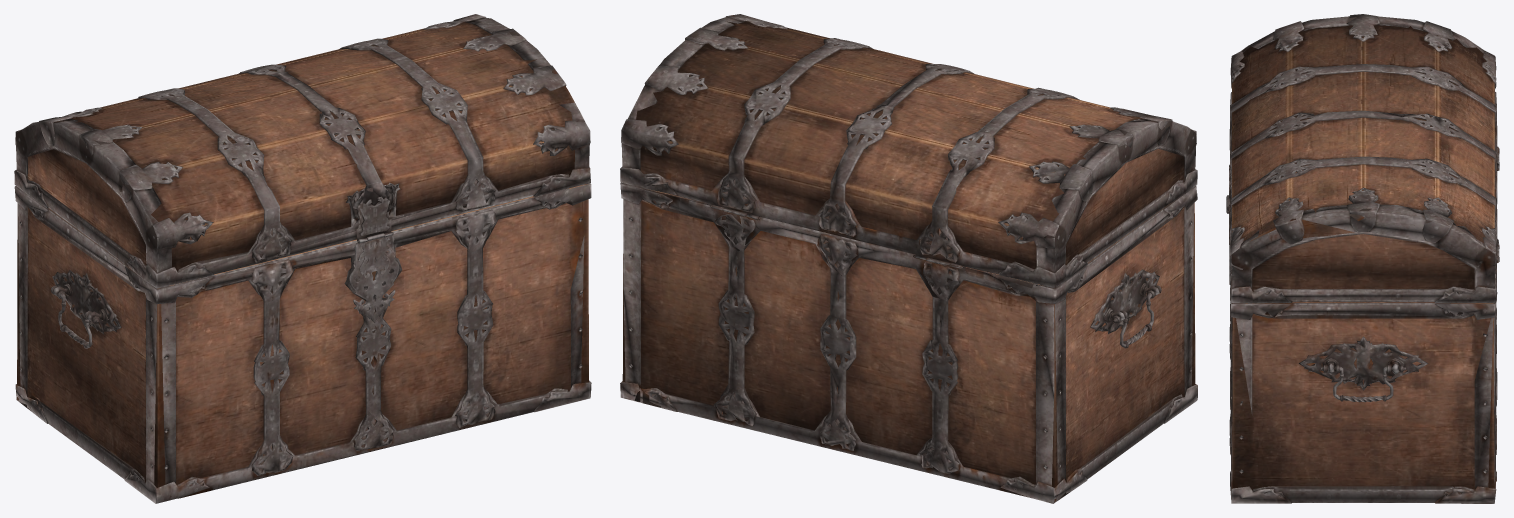
File: treasure_chest_lod.glb
3 views of the same model, side by side, from view 1: azimuth 30°, elevation 25°; view 2: azimuth 150°, elevation 25°; view 3: azimuth 270°, elevation 25° (orthographic). The views are drawn at different scales.
Parts seen in each view (by area): view 1: treasure_chest_bottom, treasure_chest_lid, treasure_chest_lock, treasure_chest_handle_left; view 2: treasure_chest_bottom, treasure_chest_lid, treasure_chest_handle_left; view 3: treasure_chest_lid, treasure_chest_bottom, treasure_chest_handle_right.
Boxes of the visible parts, x1=… form: treasure_chest_bottom: x1=14, y1=183, x2=591, y2=503; treasure_chest_lid: x1=14, y1=14, x2=590, y2=288; treasure_chest_lock: x1=349, y1=233, x2=399, y2=322; treasure_chest_handle_left: x1=50, y1=285, x2=99, y2=348; treasure_chest_bottom: x1=620, y1=182, x2=1197, y2=503; treasure_chest_lid: x1=620, y1=14, x2=1197, y2=288; treasure_chest_handle_left: x1=1112, y1=285, x2=1161, y2=348; treasure_chest_lid: x1=1226, y1=14, x2=1499, y2=303; treasure_chest_bottom: x1=1229, y1=131, x2=1499, y2=503; treasure_chest_handle_right: x1=1320, y1=365, x2=1406, y2=402.
Bounding box in the file's own units: 0.959 × 0.6165 × 0.5223.
Materials: 1 (1 with a texture image).
